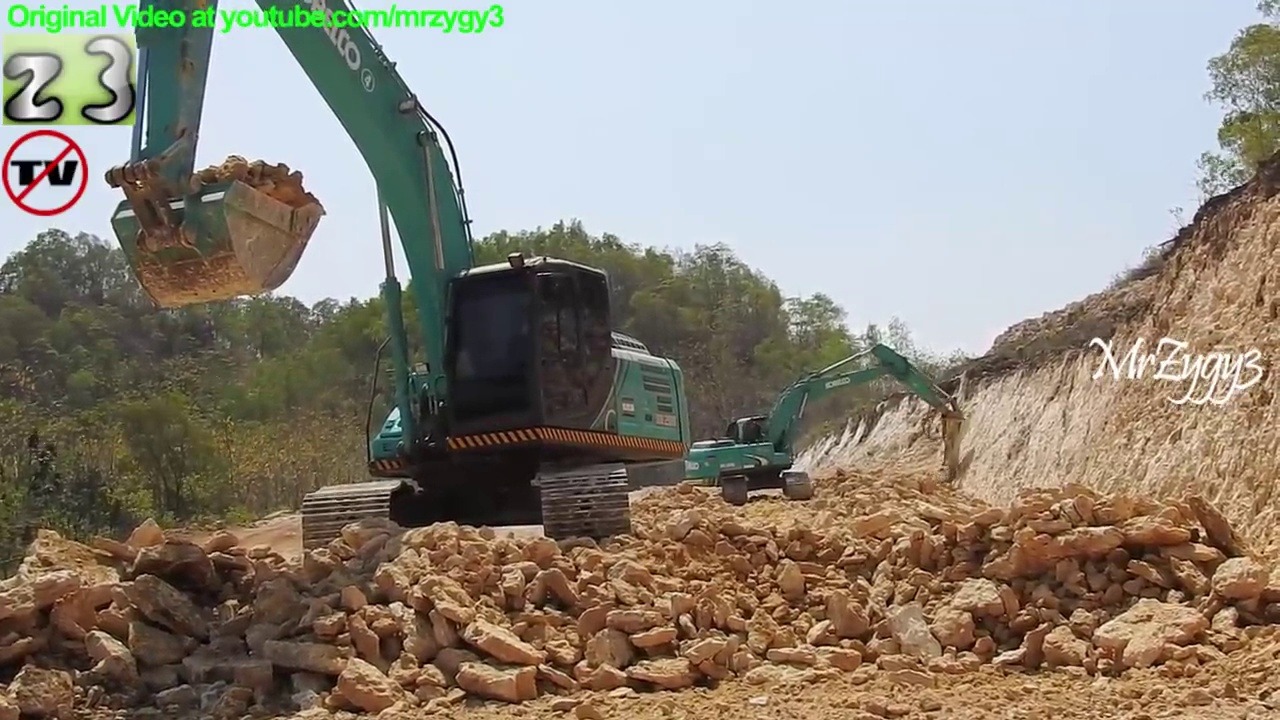excavator: (100, 1, 699, 581)
excavator breaker: (681, 338, 975, 512)
